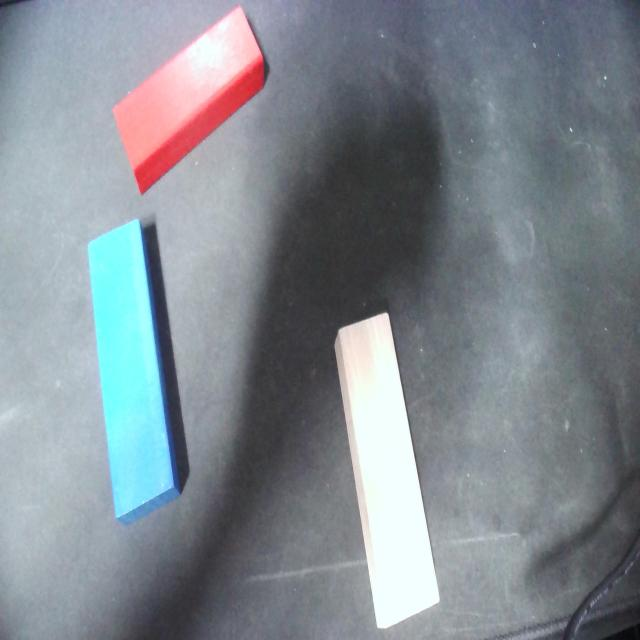blue: (76, 216, 183, 530)
wood: (323, 312, 442, 630)
